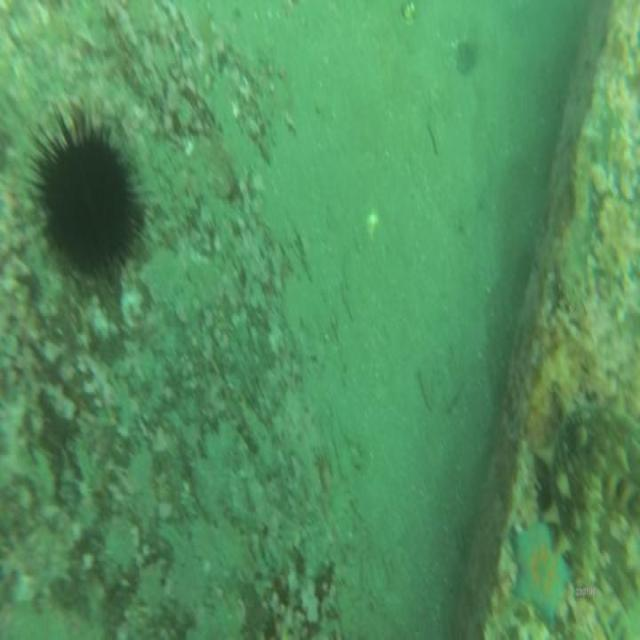echinus: (32, 108, 147, 292)
holothurian: (540, 397, 640, 592)
starfish: (509, 517, 574, 627)
